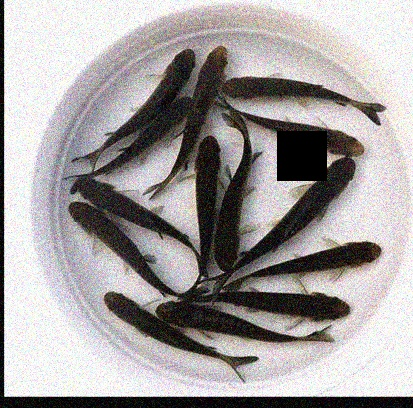fry: (265, 154, 367, 230), (260, 230, 396, 282), (188, 127, 226, 264), (61, 200, 134, 270), (153, 297, 257, 342), (255, 282, 357, 327), (224, 67, 344, 105), (287, 111, 375, 158), (90, 282, 157, 339), (135, 44, 198, 101), (213, 172, 248, 273), (74, 169, 155, 209), (197, 33, 231, 98), (148, 92, 193, 131)
